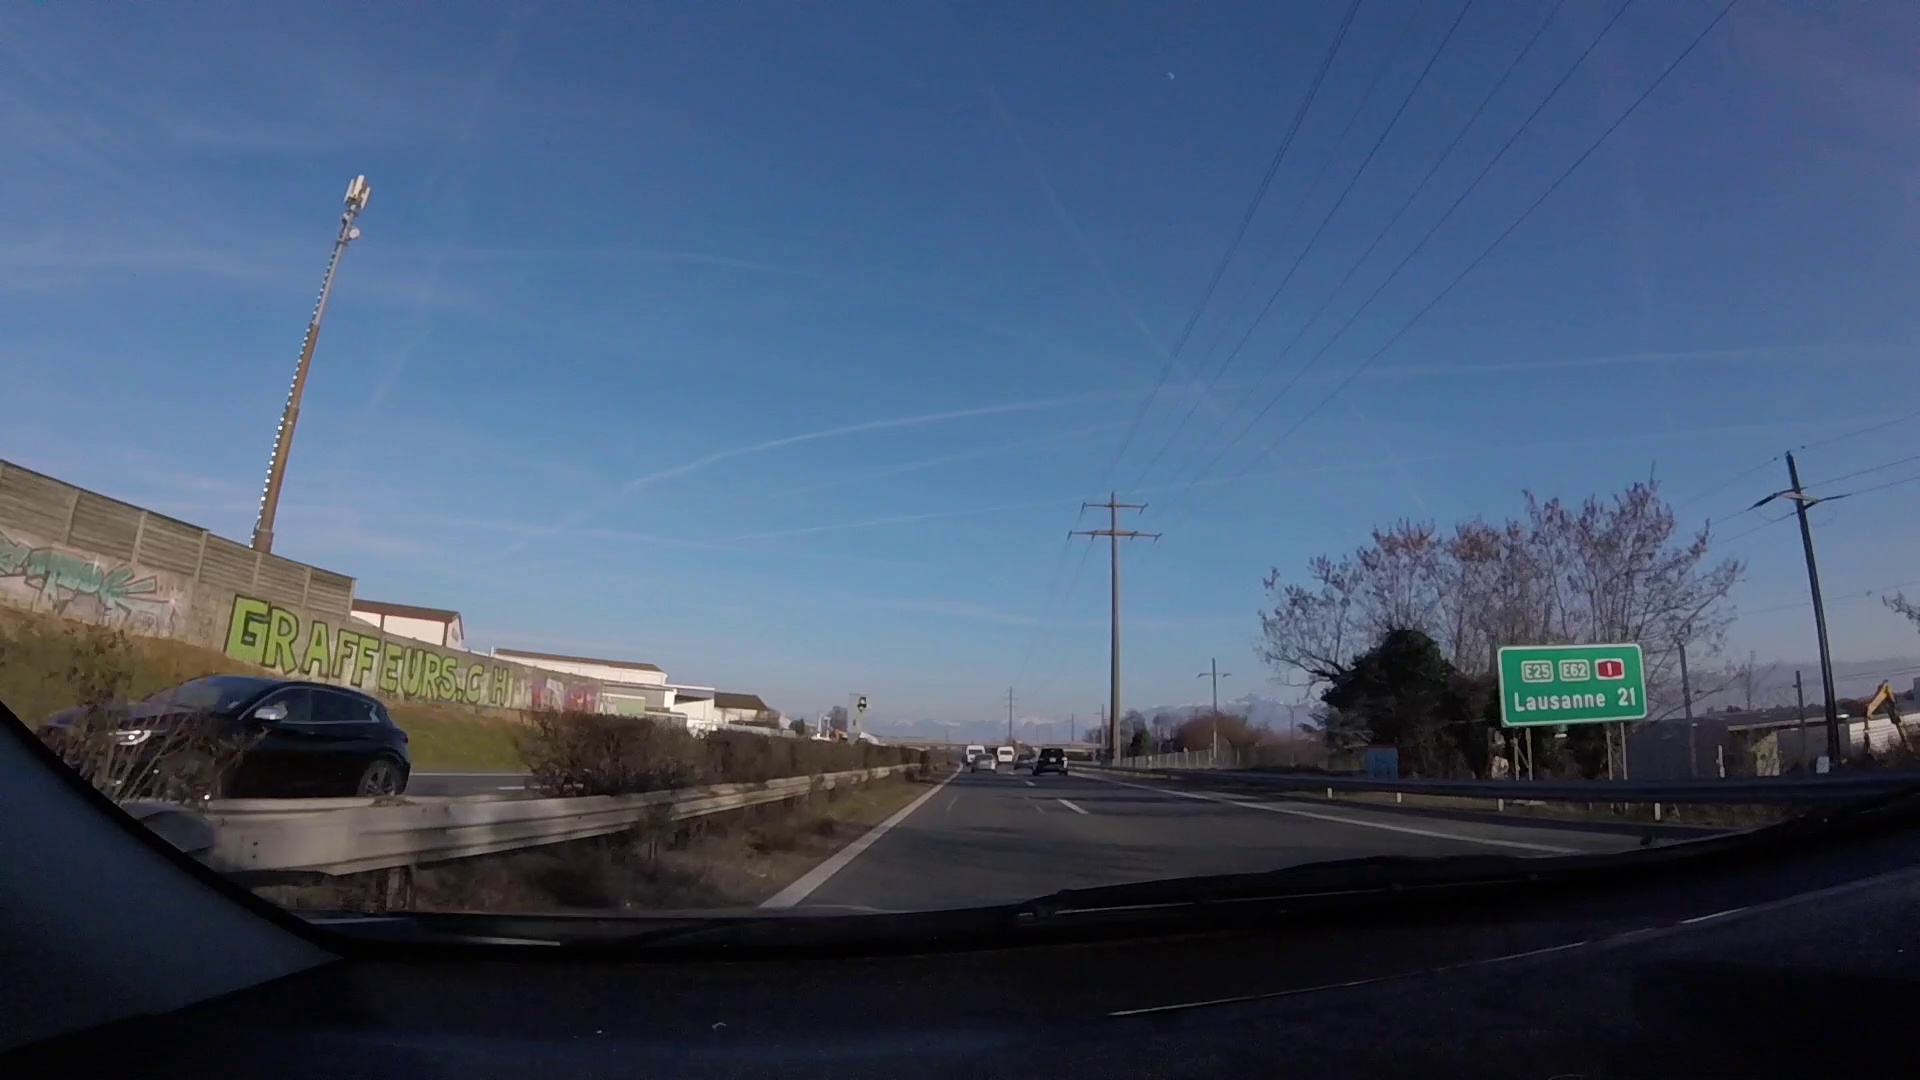radar: (845, 692, 872, 746)
